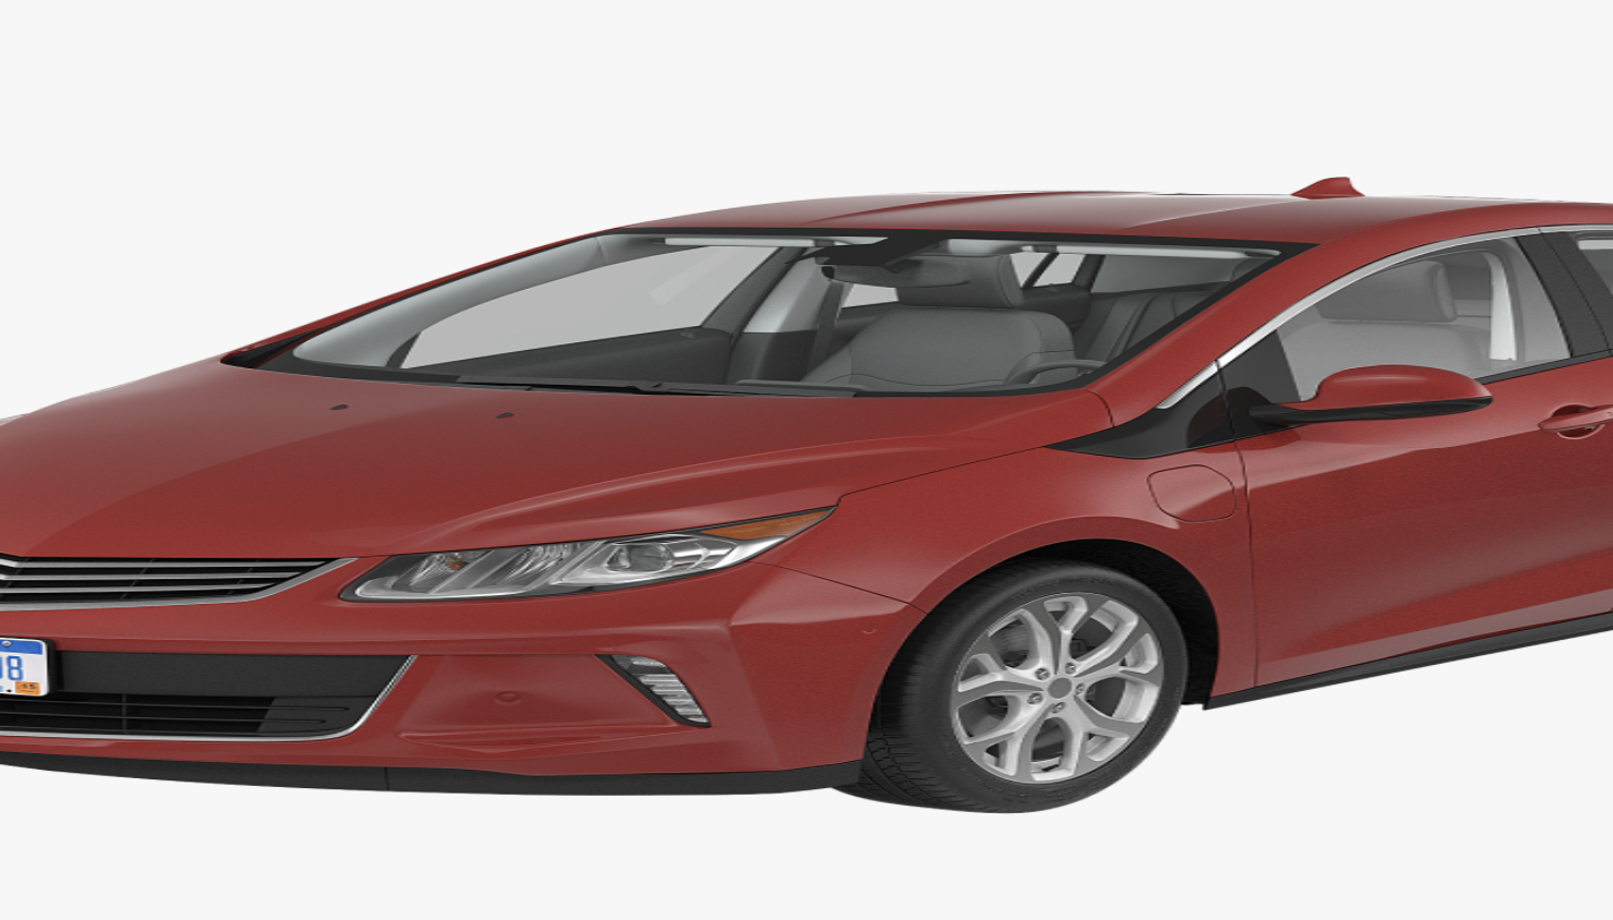hatch: (1142, 462, 1245, 530)
